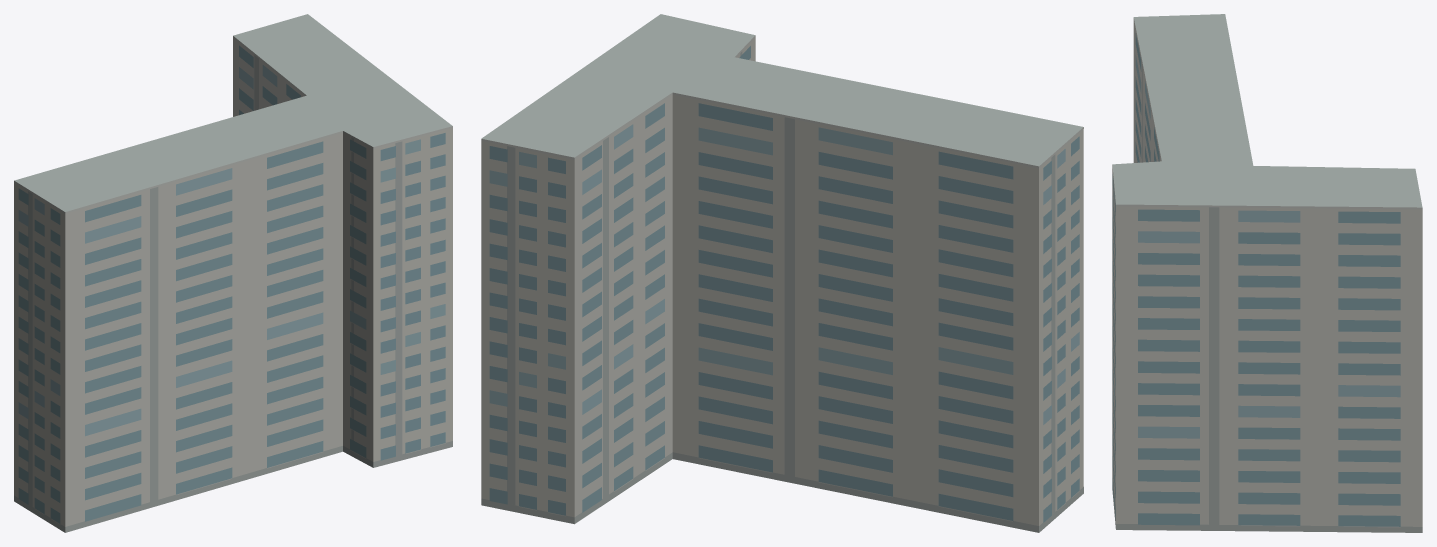
Rendered from residential-2073764d-1d02-46e0-809d-67672e3f8ce7.glb.
3 views of the same model, side by side, from view 1: azimuth 30°, elevation 25°; view 2: azimuth 150°, elevation 25°; view 3: azimuth 270°, elevation 25° (orthographic). The views are drawn at different scales.
Visible parts, largest first — view 1: residential-2073764d-1d02-46e0-809d-67672e3f8ce7.tmp; view 2: residential-2073764d-1d02-46e0-809d-67672e3f8ce7.tmp; view 3: residential-2073764d-1d02-46e0-809d-67672e3f8ce7.tmp.
Boxes of the visible parts, left/top/right/bottom form: residential-2073764d-1d02-46e0-809d-67672e3f8ce7.tmp: left=14, top=14, right=452, bottom=532; residential-2073764d-1d02-46e0-809d-67672e3f8ce7.tmp: left=481, top=14, right=1083, bottom=532; residential-2073764d-1d02-46e0-809d-67672e3f8ce7.tmp: left=1112, top=14, right=1422, bottom=532.
Bounding box in the file's own units: 53.58 × 42 × 36.28.
